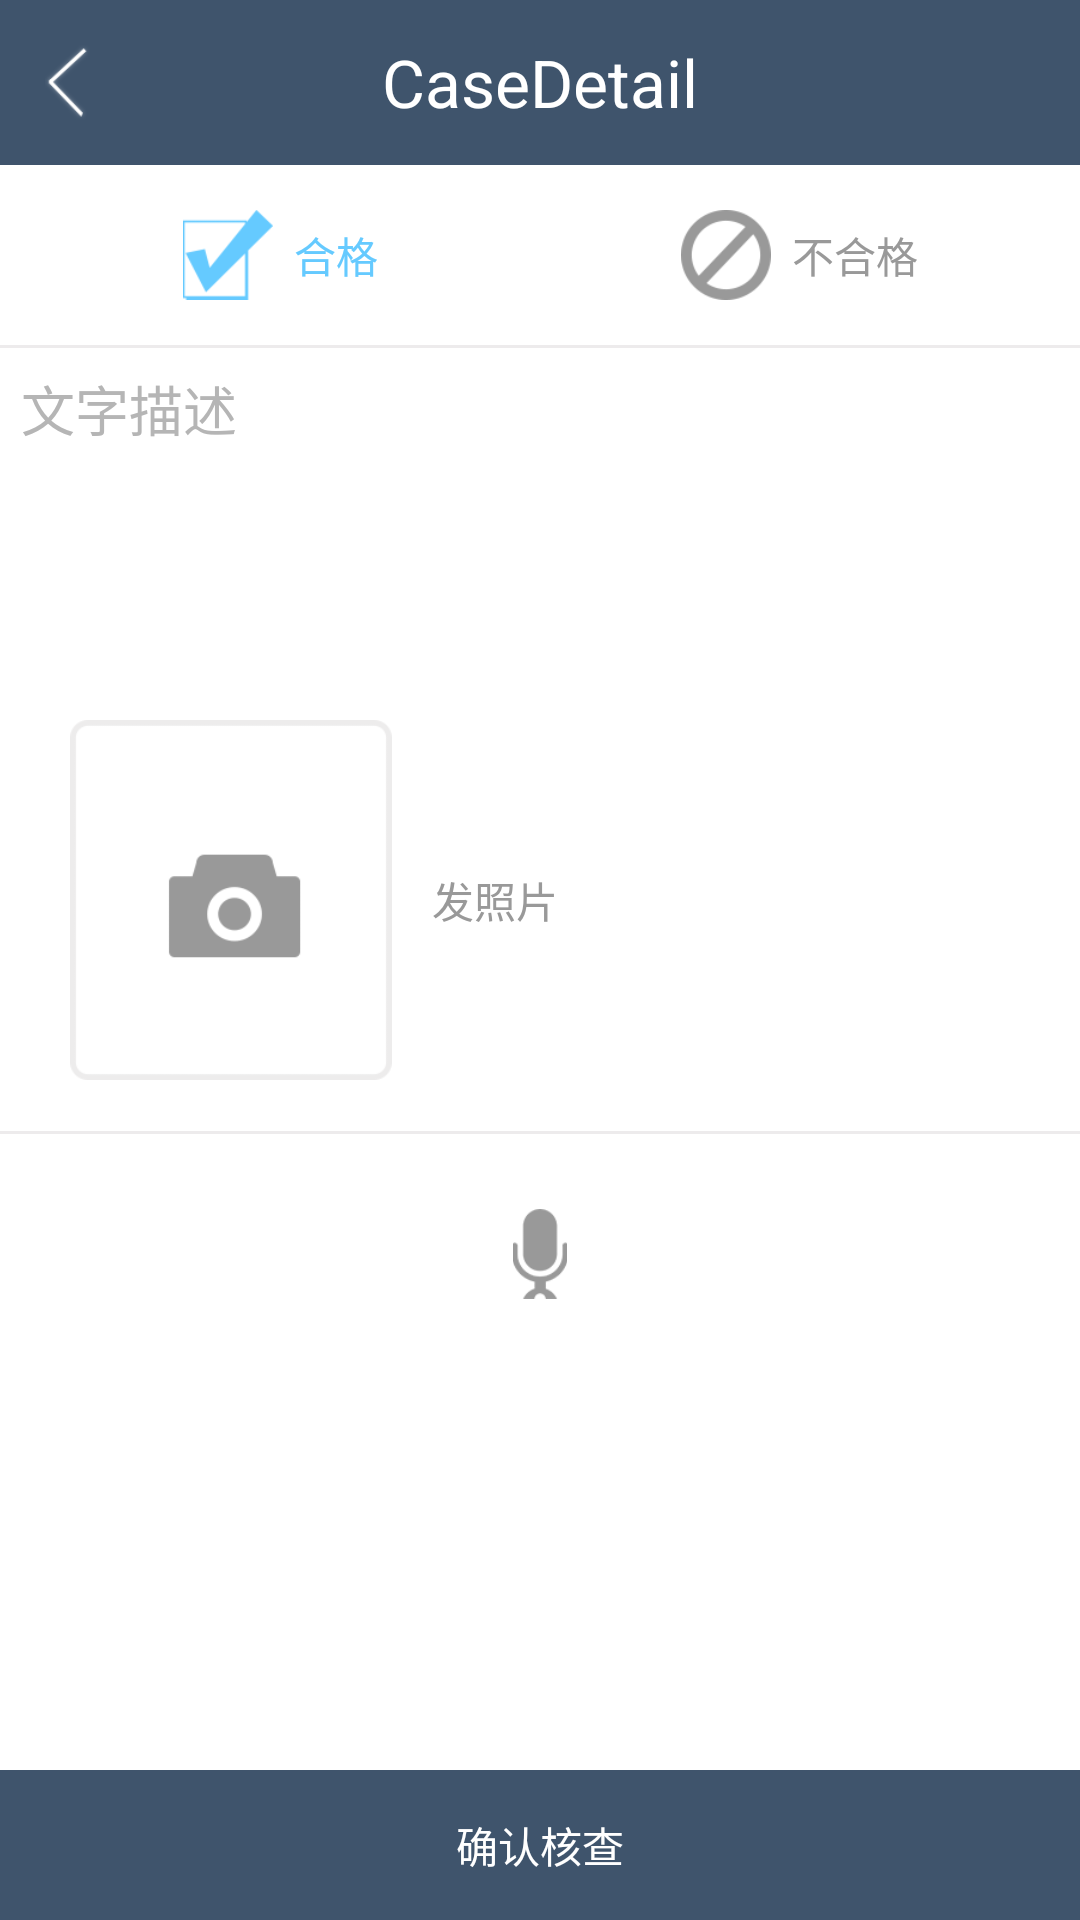

Icons on this 1080 × 1920 Android screen, each with its box as (x1, y1, x2, y2):
back: (48, 48, 87, 117)
take photo: (169, 854, 300, 958)
